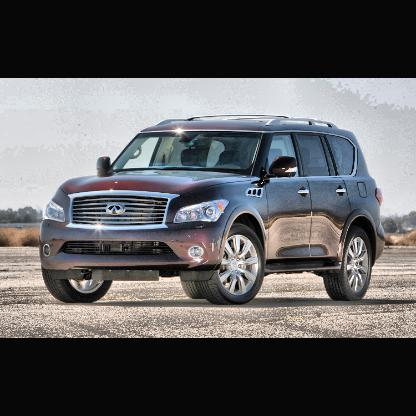Infiniti QX56 SUV 2011: (40, 115, 383, 305)
